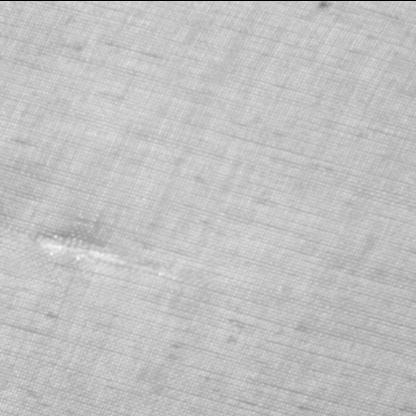thread error: (26, 226, 169, 278)
